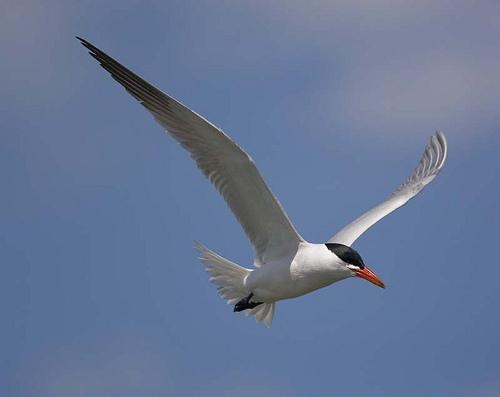bird: (69, 33, 446, 329)
